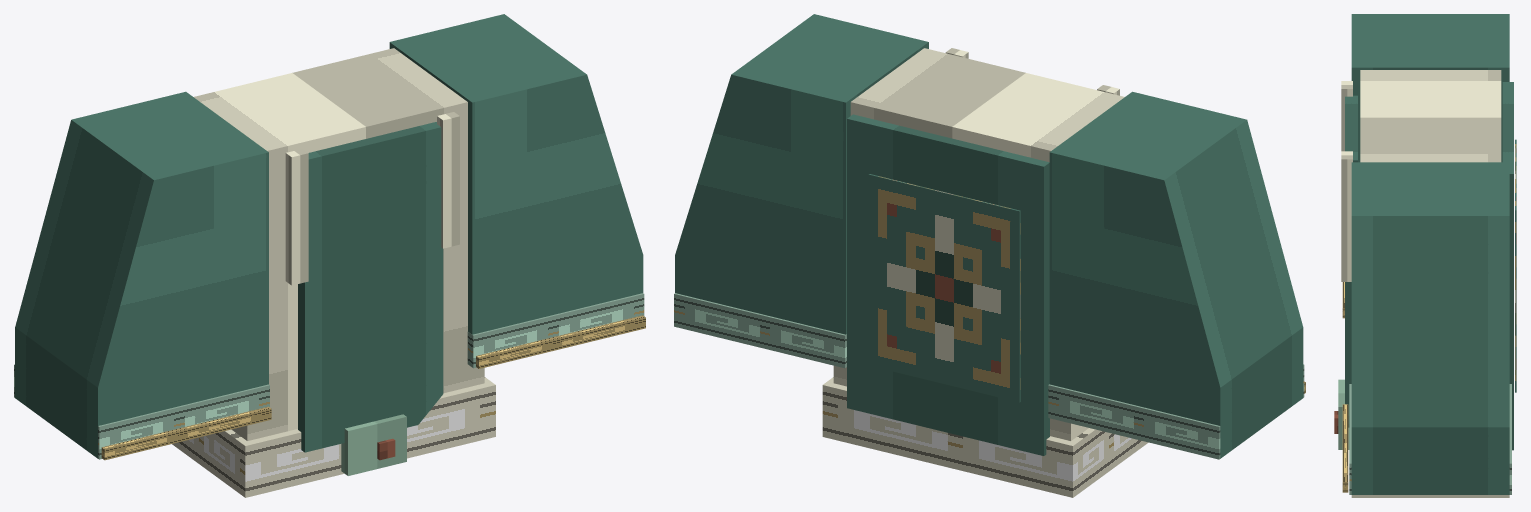
The model's file is zhuji_yuheng_yizhuang_chestplate.obj.
3 renders of one model, left to right at view 1: azimuth 30°, elevation 25°; view 2: azimuth 150°, elevation 25°; view 3: azimuth 270°, elevation 25°, orthographic. The views are drawn at different scales.
Parts seen in each view (by area): view 1: yuheng_sleeve_-1, yuheng_sleeve_1, yuheng_front, yuheng_body, yuheng_belt, yuheng_cuff_1, yuheng_cuff_-1, yuheng_collar_-1, yuheng_buckle, yuheng_collar_1, yuheng_cuff_gold_-1, yuheng_cuff_gold_1; view 2: yuheng_sleeve_-1, yuheng_sleeve_1, yuheng_back, orn_back, yuheng_body, yuheng_belt, yuheng_cuff_-1, yuheng_cuff_1; view 3: yuheng_sleeve_1, yuheng_body, yuheng_sleeve_-1, yuheng_back, yuheng_front, yuheng_collar_1, yuheng_cuff_1, yuheng_cuff_gold_1, orn_back, yuheng_belt, yuheng_buckle, yuheng_collar_-1.
Boxes of the visible parts, left/top/right/bottom form: yuheng_sleeve_-1: left=15, top=91, right=268, bottom=458; yuheng_sleeve_1: left=389, top=14, right=643, bottom=334; yuheng_front: left=298, top=122, right=443, bottom=452; yuheng_body: left=194, top=48, right=484, bottom=440; yuheng_belt: left=172, top=377, right=495, bottom=497; yuheng_cuff_1: left=467, top=293, right=644, bottom=368; yuheng_cuff_-1: left=14, top=364, right=269, bottom=459; yuheng_collar_-1: left=285, top=149, right=308, bottom=285; yuheng_buckle: left=341, top=414, right=406, bottom=475; yuheng_collar_1: left=437, top=112, right=459, bottom=248; yuheng_cuff_gold_-1: left=101, top=406, right=271, bottom=460; yuheng_cuff_gold_1: left=476, top=315, right=645, bottom=368; yuheng_sleeve_-1: left=1049, top=91, right=1303, bottom=458; yuheng_sleeve_1: left=675, top=14, right=928, bottom=334; yuheng_back: left=847, top=114, right=1049, bottom=455; orn_back: left=868, top=174, right=1020, bottom=402; yuheng_body: left=833, top=48, right=1124, bottom=440; yuheng_belt: left=822, top=377, right=1148, bottom=497; yuheng_cuff_-1: left=1048, top=364, right=1304, bottom=459; yuheng_cuff_1: left=674, top=293, right=846, bottom=368; yuheng_sleeve_1: left=1351, top=162, right=1509, bottom=494; yuheng_body: left=1360, top=70, right=1501, bottom=162; yuheng_sleeve_-1: left=1351, top=14, right=1509, bottom=162; yuheng_back: left=1502, top=82, right=1513, bottom=450; yuheng_front: left=1345, top=95, right=1357, bottom=427; yuheng_collar_1: left=1341, top=151, right=1352, bottom=281; yuheng_cuff_1: left=1349, top=384, right=1511, bottom=494; yuheng_cuff_gold_1: left=1342, top=404, right=1348, bottom=492; orn_back: left=1515, top=139, right=1516, bottom=392; yuheng_belt: left=1351, top=495, right=1509, bottom=497; yuheng_buckle: left=1338, top=379, right=1349, bottom=449; yuheng_collar_-1: left=1341, top=81, right=1352, bottom=151.
Bounding box in the file's own units: 1.31 × 0.7812 × 0.3962.
